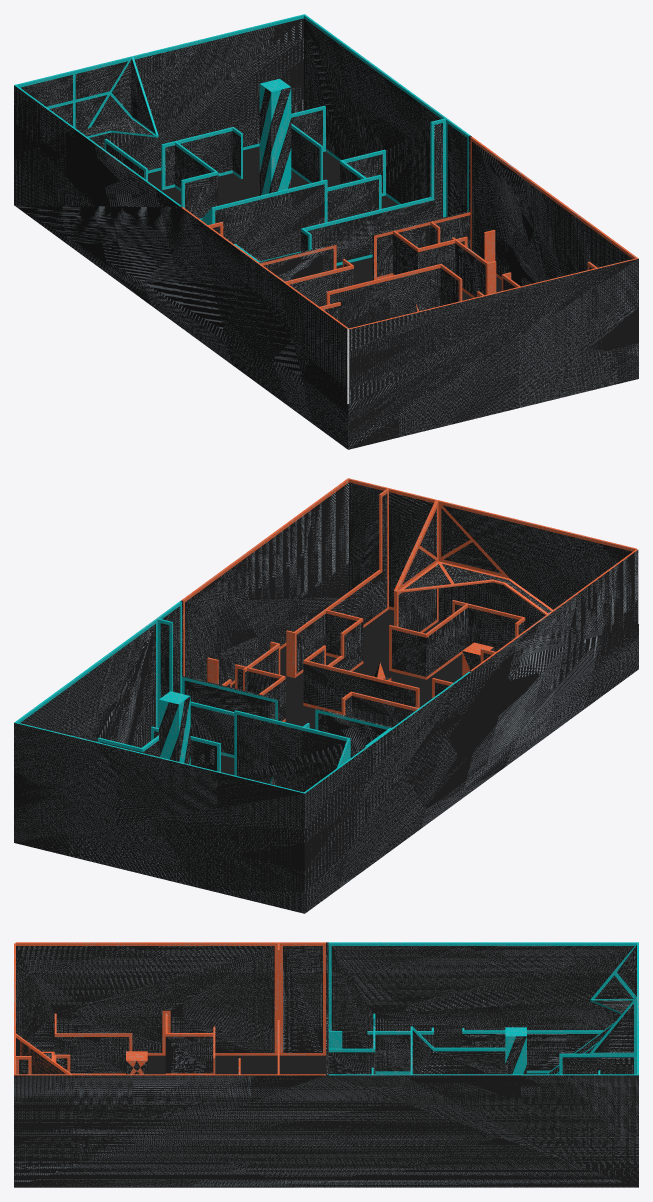
The model's file is ISOs_Map_1.dae.
The picture shows the model from 3 angles, top to bottom: view 1: azimuth 30°, elevation 25°; view 2: azimuth 150°, elevation 25°; view 3: azimuth 270°, elevation 25°; orthographic projection. The views are drawn at different scales.
Parts seen in each view (by area): view 1: SketchUp (×27); view 2: SketchUp (×25); view 3: SketchUp (×20).
Part boxes in pixels (x1=…): SketchUp (×27): x1=14, y1=14, x2=638, y2=449; SketchUp (×25): x1=14, y1=478, x2=638, y2=913; SketchUp (×20): x1=14, y1=942, x2=638, y2=1187.
Size of the model in its own units: 7463 by 14853 by 2947.
